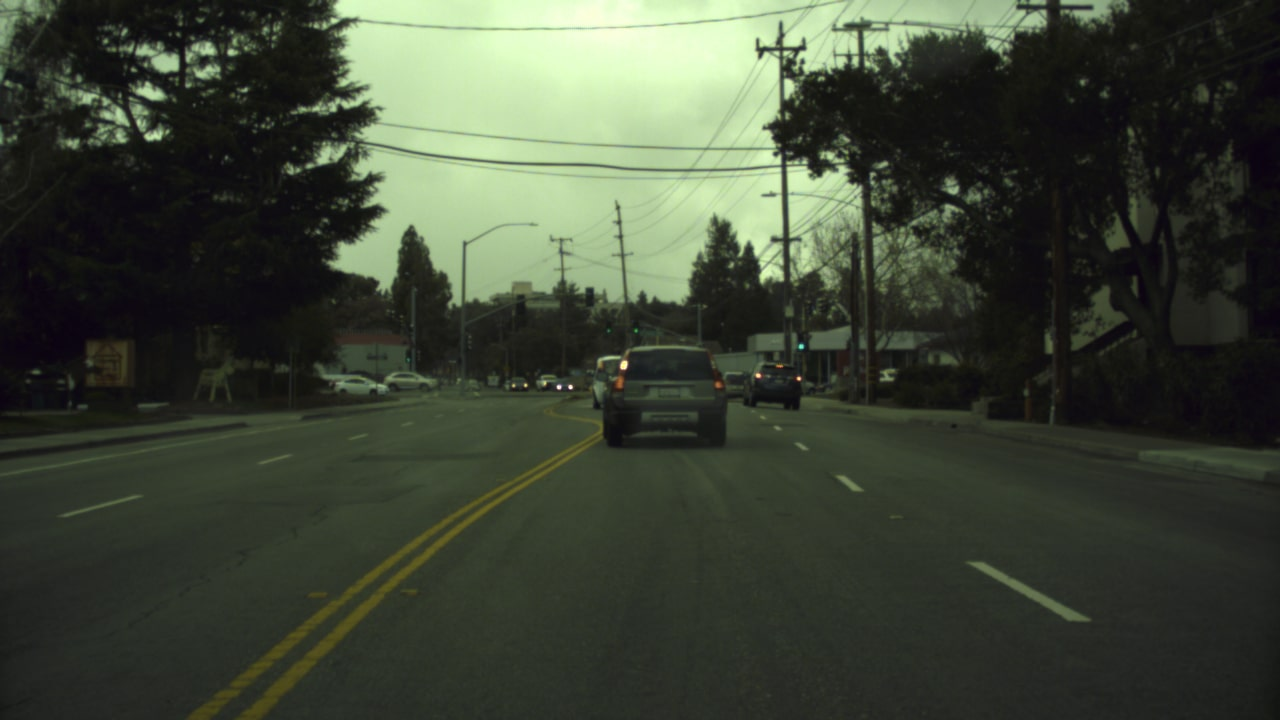signal: (625, 320, 641, 340), (794, 336, 807, 355)
